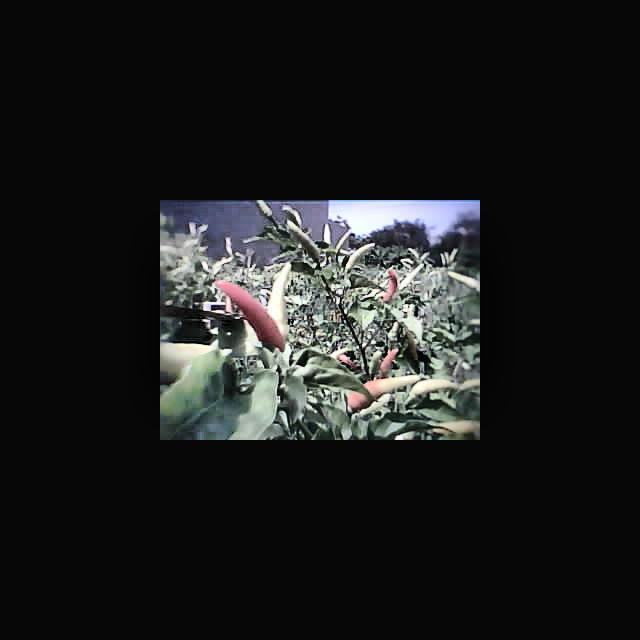Cabai: (222, 280, 269, 334), (347, 375, 414, 410), (385, 267, 400, 298)
